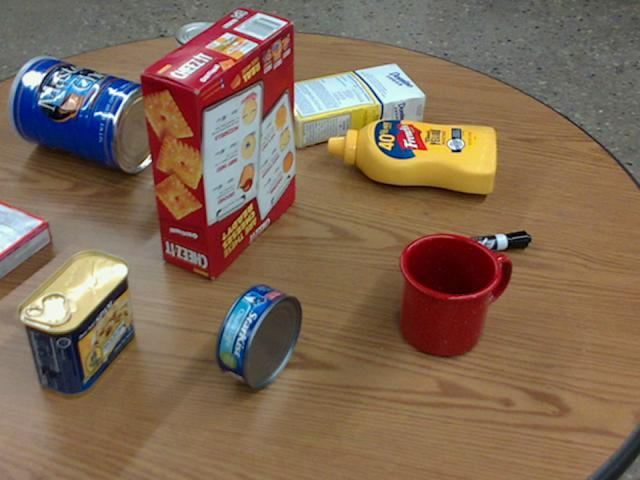cracker_box: (139, 10, 293, 279)
gelatin_box: (0, 201, 52, 279)
large_marker: (419, 230, 531, 259)
master_chef_can: (7, 56, 163, 172)
mug: (399, 232, 509, 356)
mustard_bottle: (327, 120, 496, 192)
potted_meat_can: (19, 250, 133, 397)
sugar_box: (270, 61, 426, 147)
tomato_soup_can: (173, 21, 230, 119)
tuna_fish_can: (215, 284, 303, 388)
